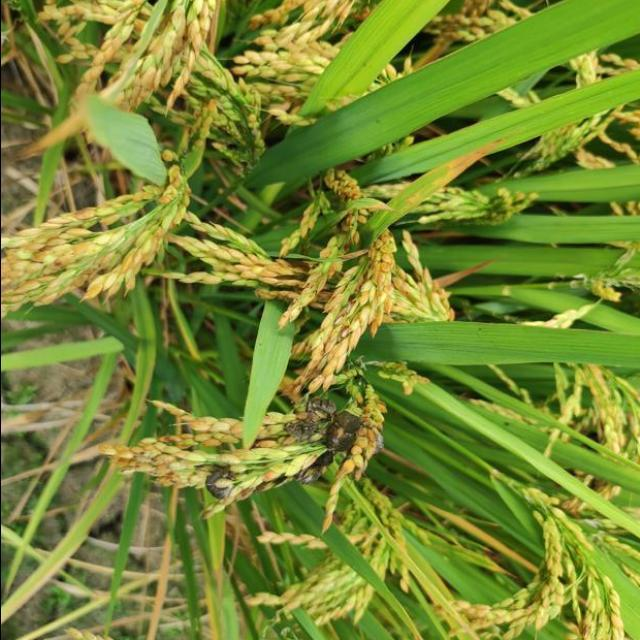Leaf_Scald: (286, 397, 360, 482), (203, 464, 239, 502)
